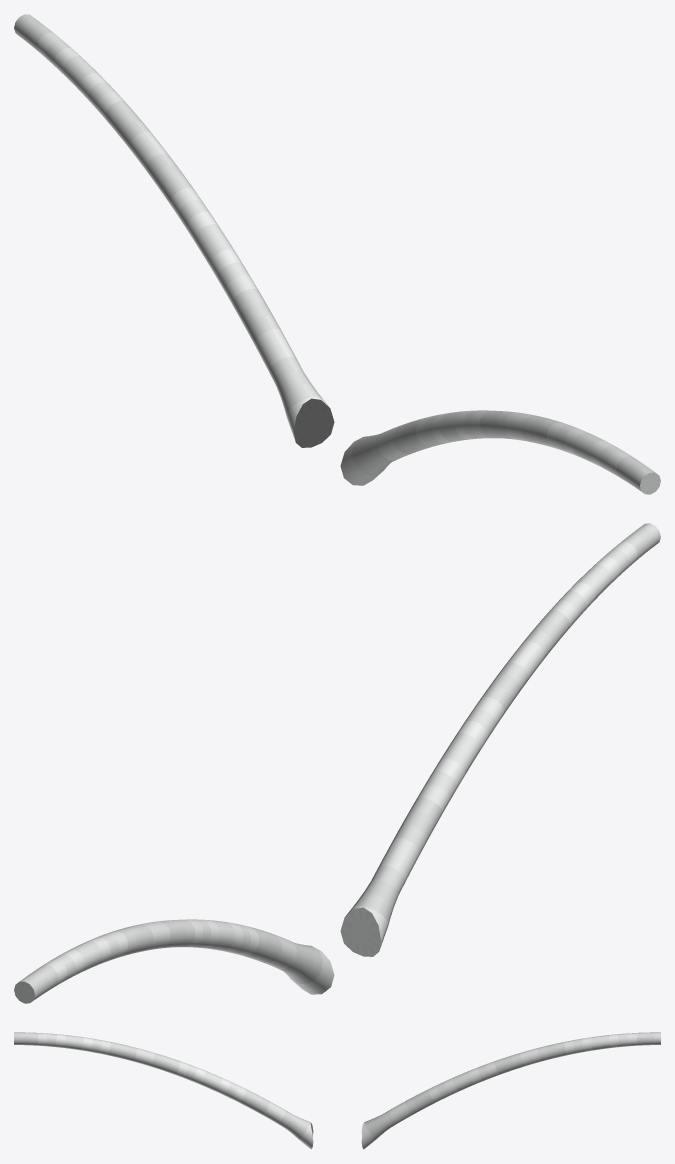
File: luminairearm_caltrans10ftdouble_inv.obj
The picture shows the model from 3 angles, top to bottom: view 1: azimuth 30°, elevation 25°; view 2: azimuth 150°, elevation 25°; view 3: azimuth 270°, elevation 25°; orthographic projection. The views are drawn at different scales.
Visible parts, largest first — view 1: luminairearm_caltrans10ftdouble_inv; view 2: luminairearm_caltrans10ftdouble_inv; view 3: luminairearm_caltrans10ftdouble_inv.
Boxes of the visible parts, left/top/right/bottom form: luminairearm_caltrans10ftdouble_inv: left=14, top=14, right=660, bottom=494; luminairearm_caltrans10ftdouble_inv: left=14, top=523, right=660, bottom=1003; luminairearm_caltrans10ftdouble_inv: left=14, top=1032, right=660, bottom=1149.
Bounding box in the file's own units: 0.0375 × 0.1968 × 1.
